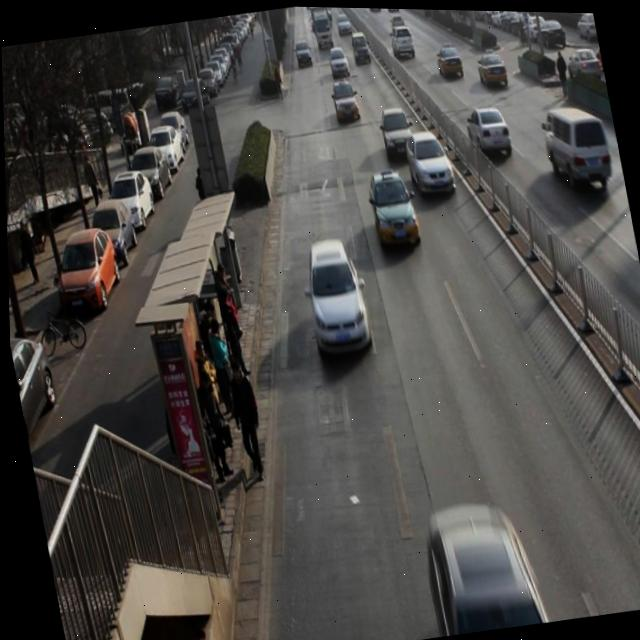bus: (308, 5, 335, 48)
car: (297, 234, 375, 360), (363, 168, 422, 251), (404, 127, 459, 201), (463, 98, 515, 160), (376, 100, 418, 163), (327, 77, 364, 121), (475, 46, 512, 88), (434, 39, 466, 81), (388, 23, 419, 58), (291, 36, 317, 74), (348, 30, 374, 65), (326, 43, 350, 76), (336, 11, 353, 34)
truck: (539, 97, 621, 202)
